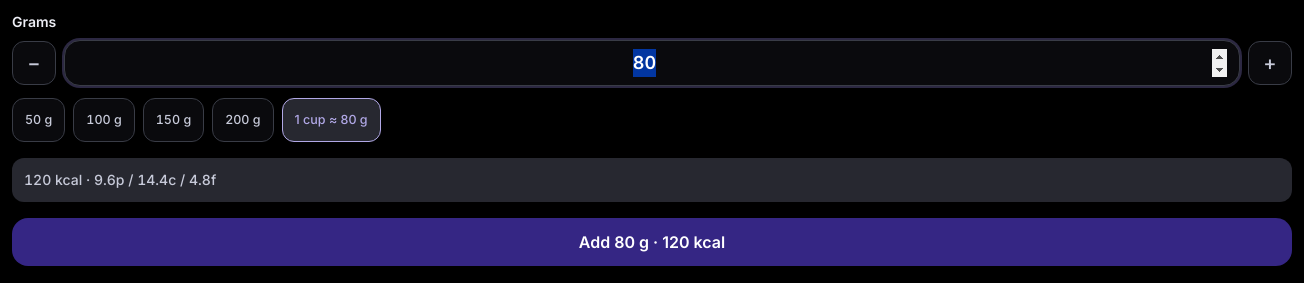
PortionStep › typing a value that produces a non-round macro result still displays it correctly rounded
Replace the text in the number field with test id "portion-grams-input" with "33": (652, 63) [64, 40, 1240, 86]
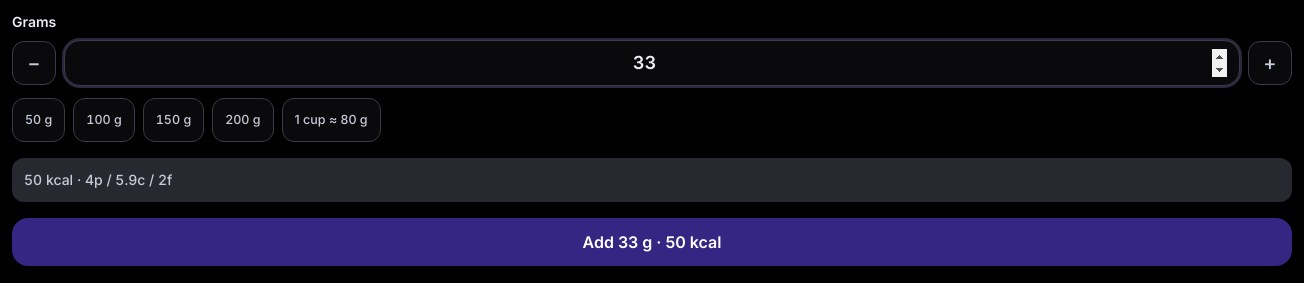
Expected: the text with test id "entry-preview" shows "4p", [12, 158, 1292, 202]
